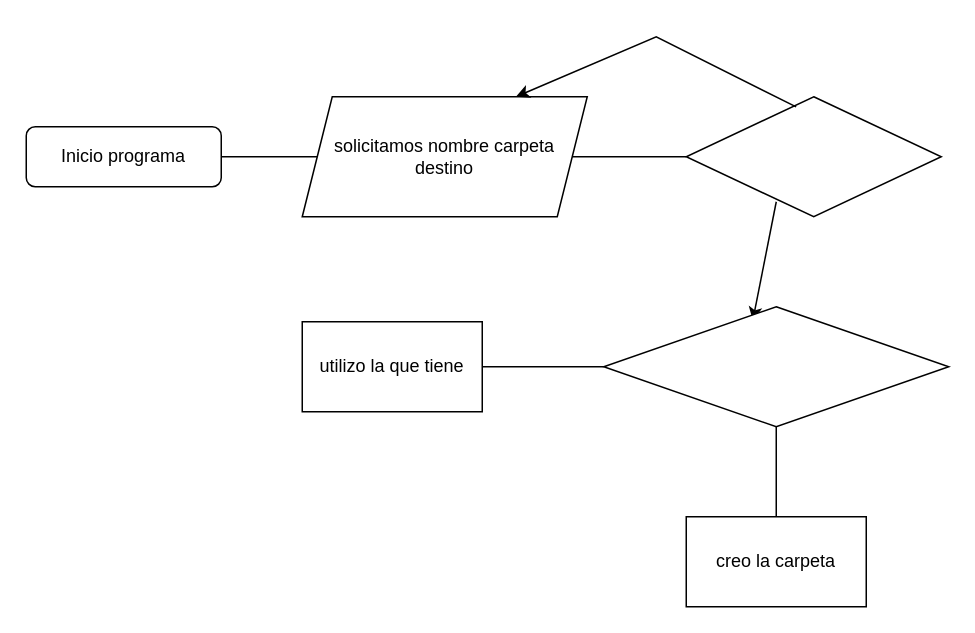
The diagram is 975 pixels wide and 633 high, and some of its shapes have lost their labels. Each missing label, with the box of its shape:
nombre carpeta correcto: (685, 95, 941, 217)
verifico si la carpeta ya esta creada: (602, 305, 949, 427)
